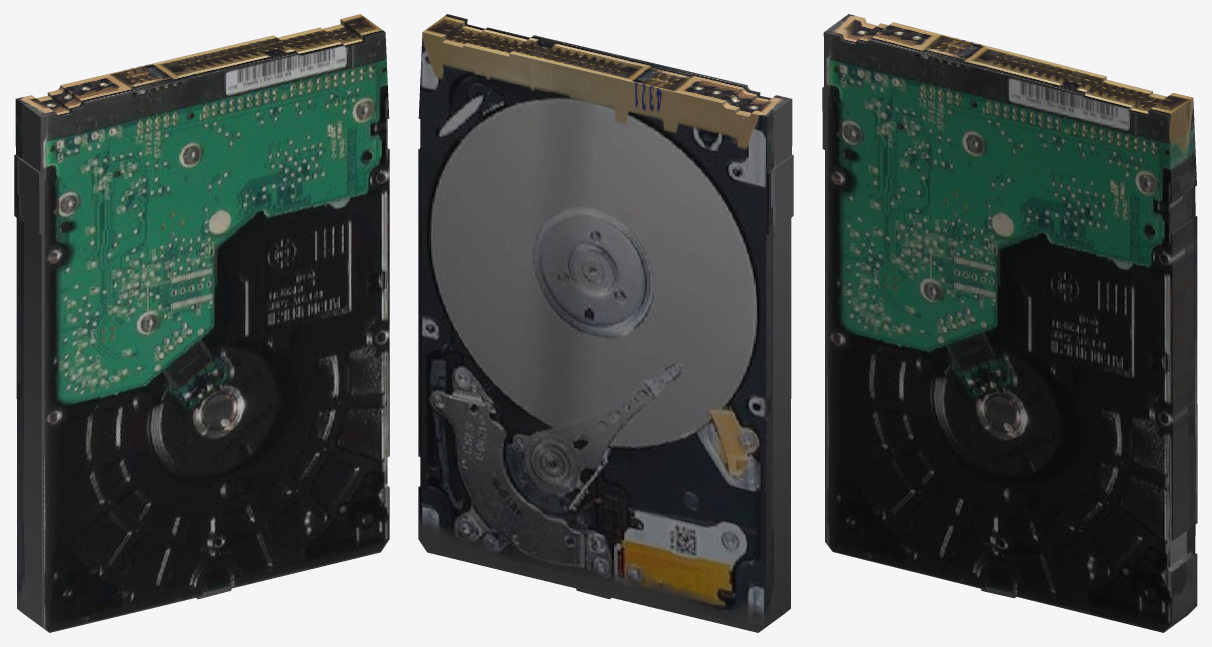
Rendered from harddisk.glb.
The picture shows the model from 3 angles, left to right: view 1: azimuth 30°, elevation 25°; view 2: azimuth 150°, elevation 25°; view 3: azimuth 330°, elevation 25°; orthographic projection.
Parts seen in each view (by area): view 1: root_Material_139_0; view 2: root_Material_139_0; view 3: root_Material_139_0.
Part boxes in pixels (box(x1,y1,x2,y2)): root_Material_139_0: box(14, 14, 389, 632); root_Material_139_0: box(418, 14, 793, 632); root_Material_139_0: box(822, 14, 1197, 632).
Size of the model in its own units: 0.2428 by 0.3464 by 0.0299.
1 material, 1 textured.
